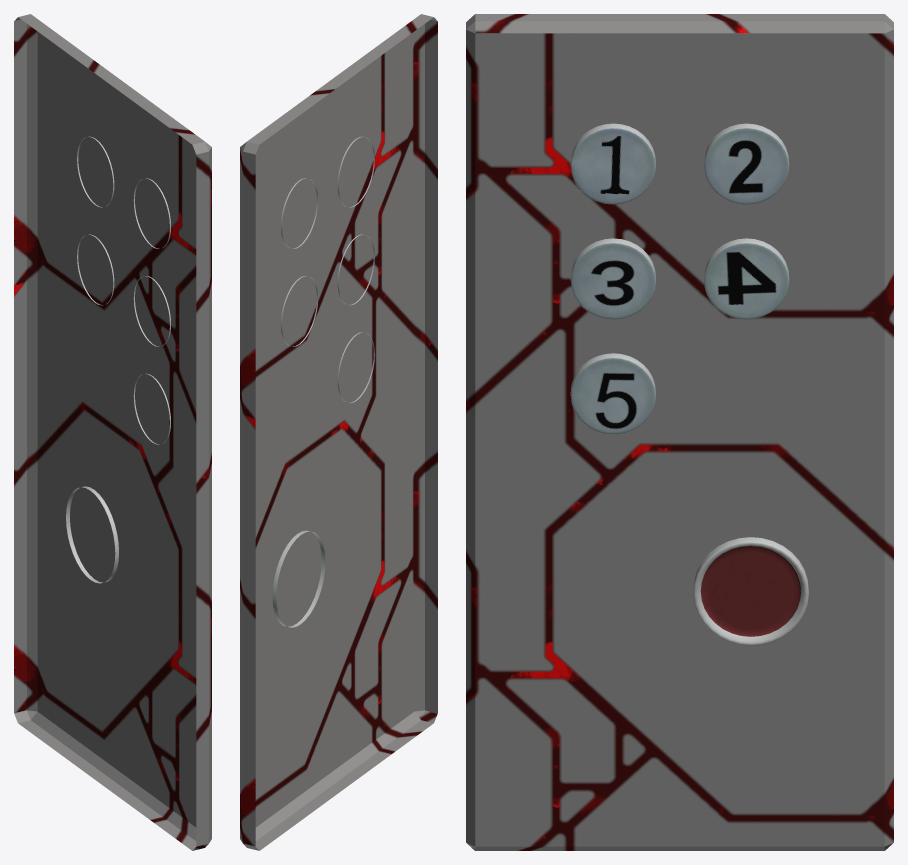
The model's file is LIFT PANNEL.fbx.
3 views of the same model, side by side, from view 1: azimuth 30°, elevation 25°; view 2: azimuth 150°, elevation 25°; view 3: azimuth 270°, elevation 25° (orthographic). The views are drawn at different scales.
Visible parts, largest first — view 1: Cube, Circle; view 2: Cube, Circle; view 3: Cube, Circle.
Part boxes in pixels (<box>): Cube: <box>14,14,211,850</box>; Circle: <box>66,136,170,583</box>; Cube: <box>240,14,437,850</box>; Circle: <box>272,136,374,627</box>; Cube: <box>466,14,893,850</box>; Circle: <box>570,123,808,645</box>.
Size of the model in its own units: 17.49 by 428 by 200.
